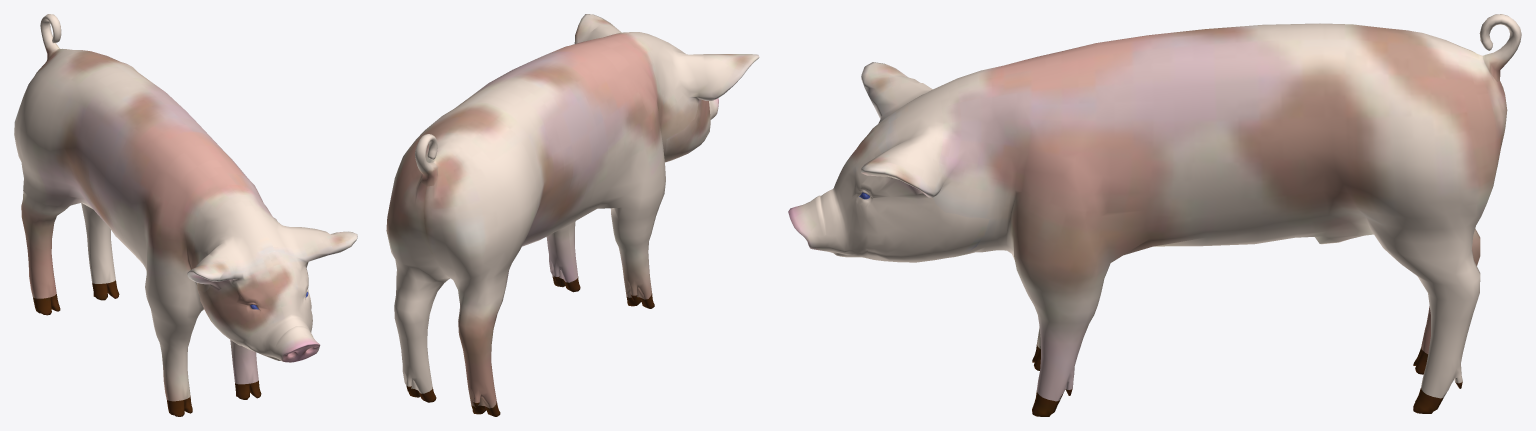
The model's file is pig.obj.
3 views of the same model, side by side, from view 1: azimuth 30°, elevation 25°; view 2: azimuth 150°, elevation 25°; view 3: azimuth 270°, elevation 25° (orthographic). The views are drawn at different scales.
Parts seen in each view (by area): view 1: pig; view 2: pig; view 3: pig.
Part boxes in pixels (left/top/right/bottom): pig: left=14, top=14, right=357, bottom=416; pig: left=386, top=14, right=759, bottom=416; pig: left=788, top=14, right=1521, bottom=416.
Bounding box in the file's own units: 2.97 × 4.74 × 8.45.
Materials: 3 (3 with a texture image).
